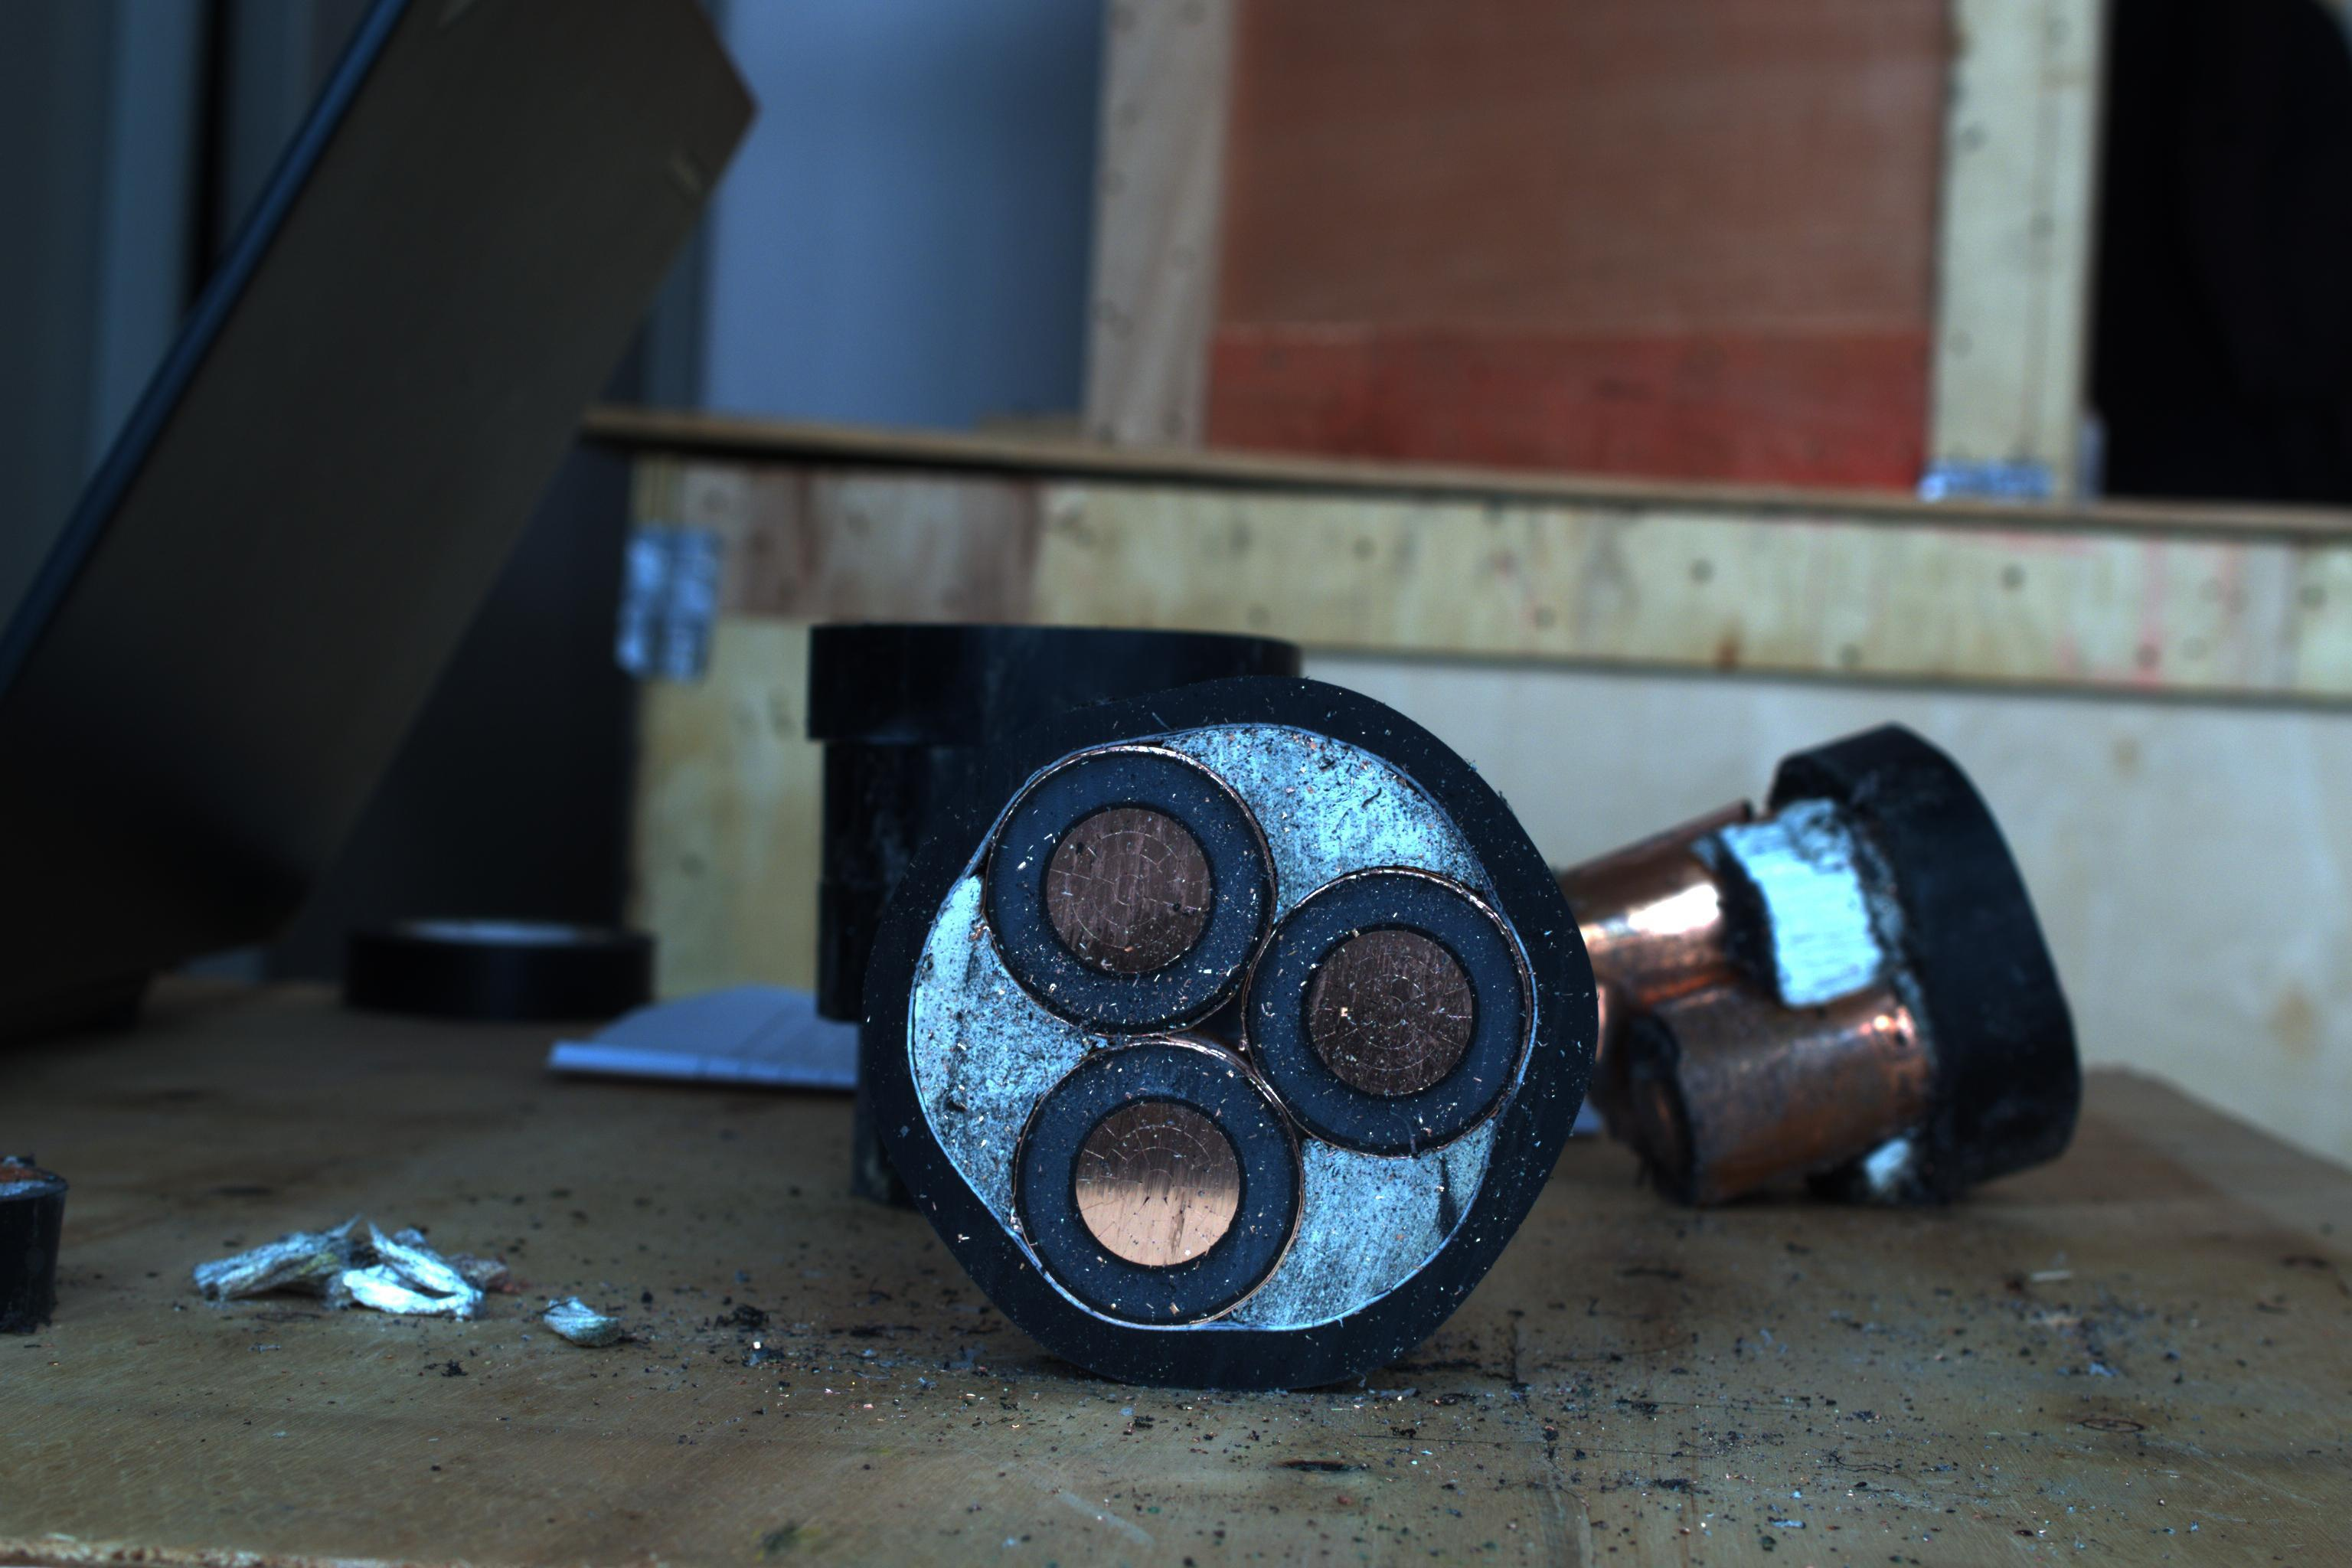ZA_YJV_8.7_10kV_3x240: (857, 688, 1612, 1384)
